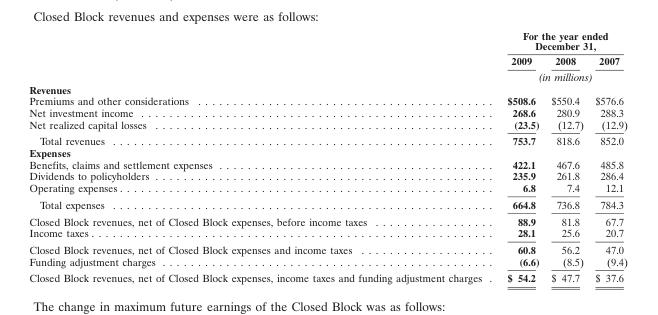table: (28, 28, 626, 284)
table column: (28, 28, 493, 284), (493, 28, 544, 284), (544, 28, 588, 284), (588, 28, 626, 284)
table column header: (28, 28, 626, 82)
table projected row header: (28, 82, 626, 94), (28, 146, 626, 158)
table row: (28, 28, 626, 52), (28, 195, 626, 212), (28, 52, 626, 68), (28, 240, 626, 255), (28, 269, 626, 284), (28, 68, 626, 82), (28, 118, 626, 132), (28, 132, 626, 146), (28, 181, 626, 195), (28, 212, 626, 226), (28, 226, 626, 240), (28, 255, 626, 269), (28, 82, 626, 94), (28, 94, 626, 106), (28, 106, 626, 118), (28, 146, 626, 158), (28, 169, 626, 181), (28, 158, 626, 169)
table spanning cell: (493, 28, 626, 52), (493, 68, 626, 82)
